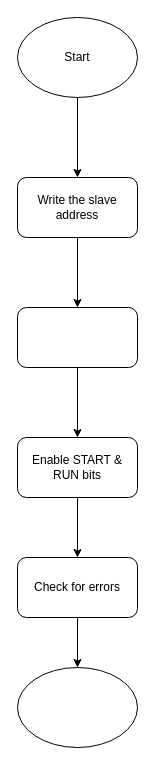
Some shapes in this 155 by 765 pixel diagram are drawn without their labels. The shapes that lost their labels are listed below. From the top down, each one's centre as x and y in pixels, then its label:
the point at 77,337: Enable sensor via command
the point at 77,707: Stop
